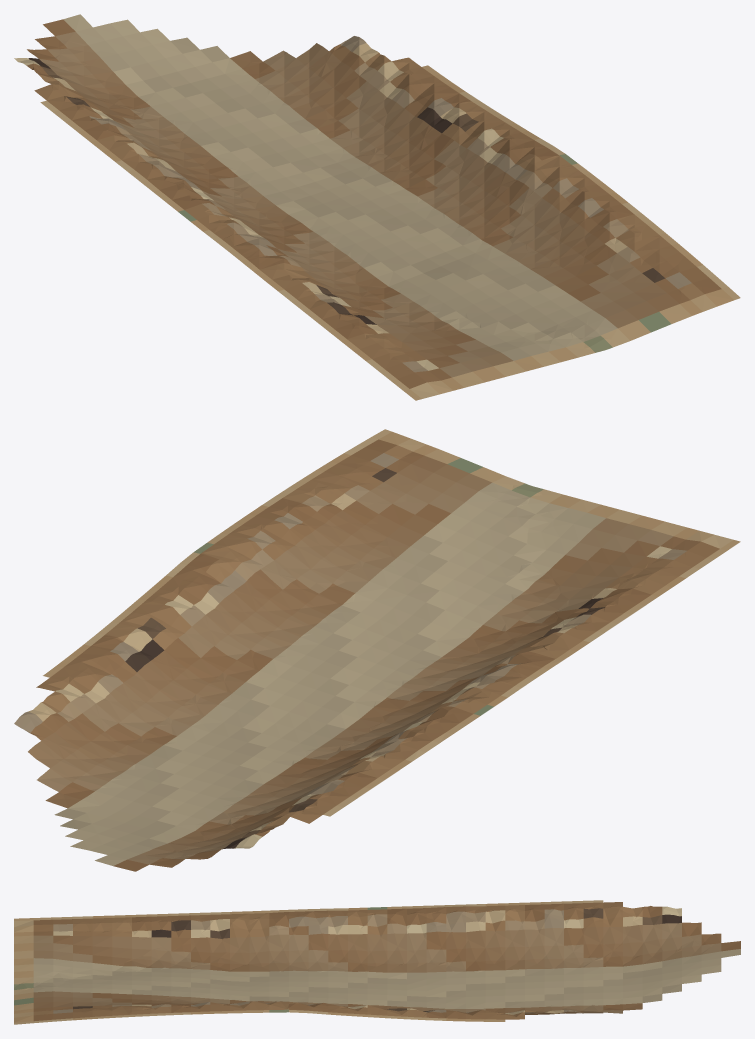
Rendered from liner_butte_gap.glb.
3 views of the same model, one above another, from view 1: azimuth 30°, elevation 25°; view 2: azimuth 150°, elevation 25°; view 3: azimuth 270°, elevation 25° (orthographic). The views are drawn at different scales.
Visible parts, largest first — view 1: liner_butte_gap_body; view 2: liner_butte_gap_body; view 3: liner_butte_gap_body.
Boxes of the visible parts, x1,y1,x2,y2 form: liner_butte_gap_body: [14, 14, 740, 400]; liner_butte_gap_body: [14, 429, 740, 871]; liner_butte_gap_body: [14, 900, 740, 1024].
Size of the model in its own units: 30 by 4.84 by 74.
